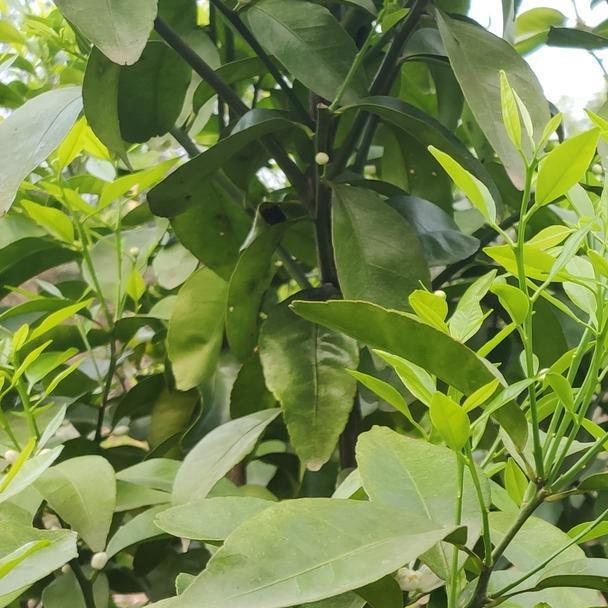shoot: (440, 81, 602, 339)
